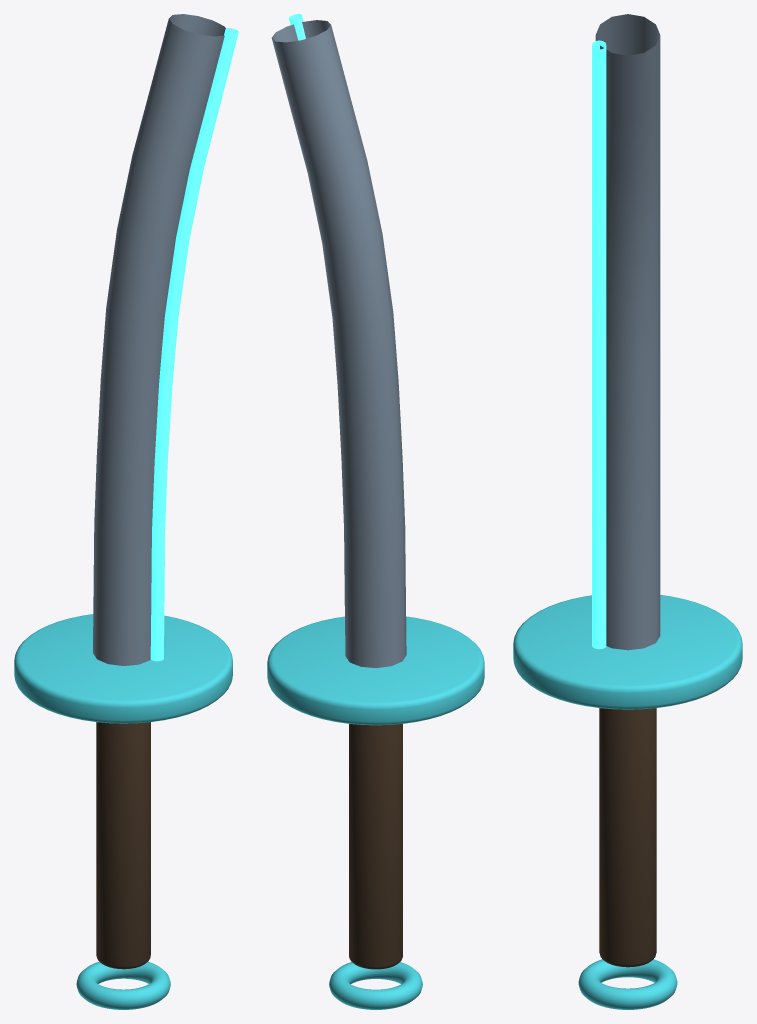
File: sword_v8.glb
The picture shows the model from 3 angles, left to right: view 1: azimuth 30°, elevation 25°; view 2: azimuth 150°, elevation 25°; view 3: azimuth 270°, elevation 25°; orthographic projection. The views are drawn at different scales.
Parts seen in each view (by area): view 1: KATANA_SPINE_PRIMARY, KATANA_TSUBA_ACCENT, GRIP_SECONDARY, KATANA_EDGE_EMISSIVE, POMMEL_ACCENT; view 2: KATANA_SPINE_PRIMARY, KATANA_TSUBA_ACCENT, GRIP_SECONDARY, POMMEL_ACCENT; view 3: KATANA_SPINE_PRIMARY, KATANA_TSUBA_ACCENT, GRIP_SECONDARY, KATANA_EDGE_EMISSIVE, POMMEL_ACCENT.
Part boxes in pixels (<box>): KATANA_SPINE_PRIMARY: <box>93,14,225,665</box>; KATANA_TSUBA_ACCENT: <box>14,614,232,723</box>; GRIP_SECONDARY: <box>96,722,150,969</box>; KATANA_EDGE_EMISSIVE: <box>150,28,238,661</box>; POMMEL_ACCENT: <box>76,961,170,1009</box>; KATANA_SPINE_PRIMARY: <box>271,20,406,667</box>; KATANA_TSUBA_ACCENT: <box>267,616,484,725</box>; GRIP_SECONDARY: <box>349,724,402,969</box>; POMMEL_ACCENT: <box>329,962,422,1009</box>; KATANA_SPINE_PRIMARY: <box>595,14,660,650</box>; KATANA_TSUBA_ACCENT: <box>513,595,742,709</box>; GRIP_SECONDARY: <box>599,708,656,967</box>; KATANA_EDGE_EMISSIVE: <box>592,40,606,649</box>; POMMEL_ACCENT: <box>578,959,677,1009</box>.
Bounding box in the file's own units: 0.9902 × 4.63 × 0.96.
